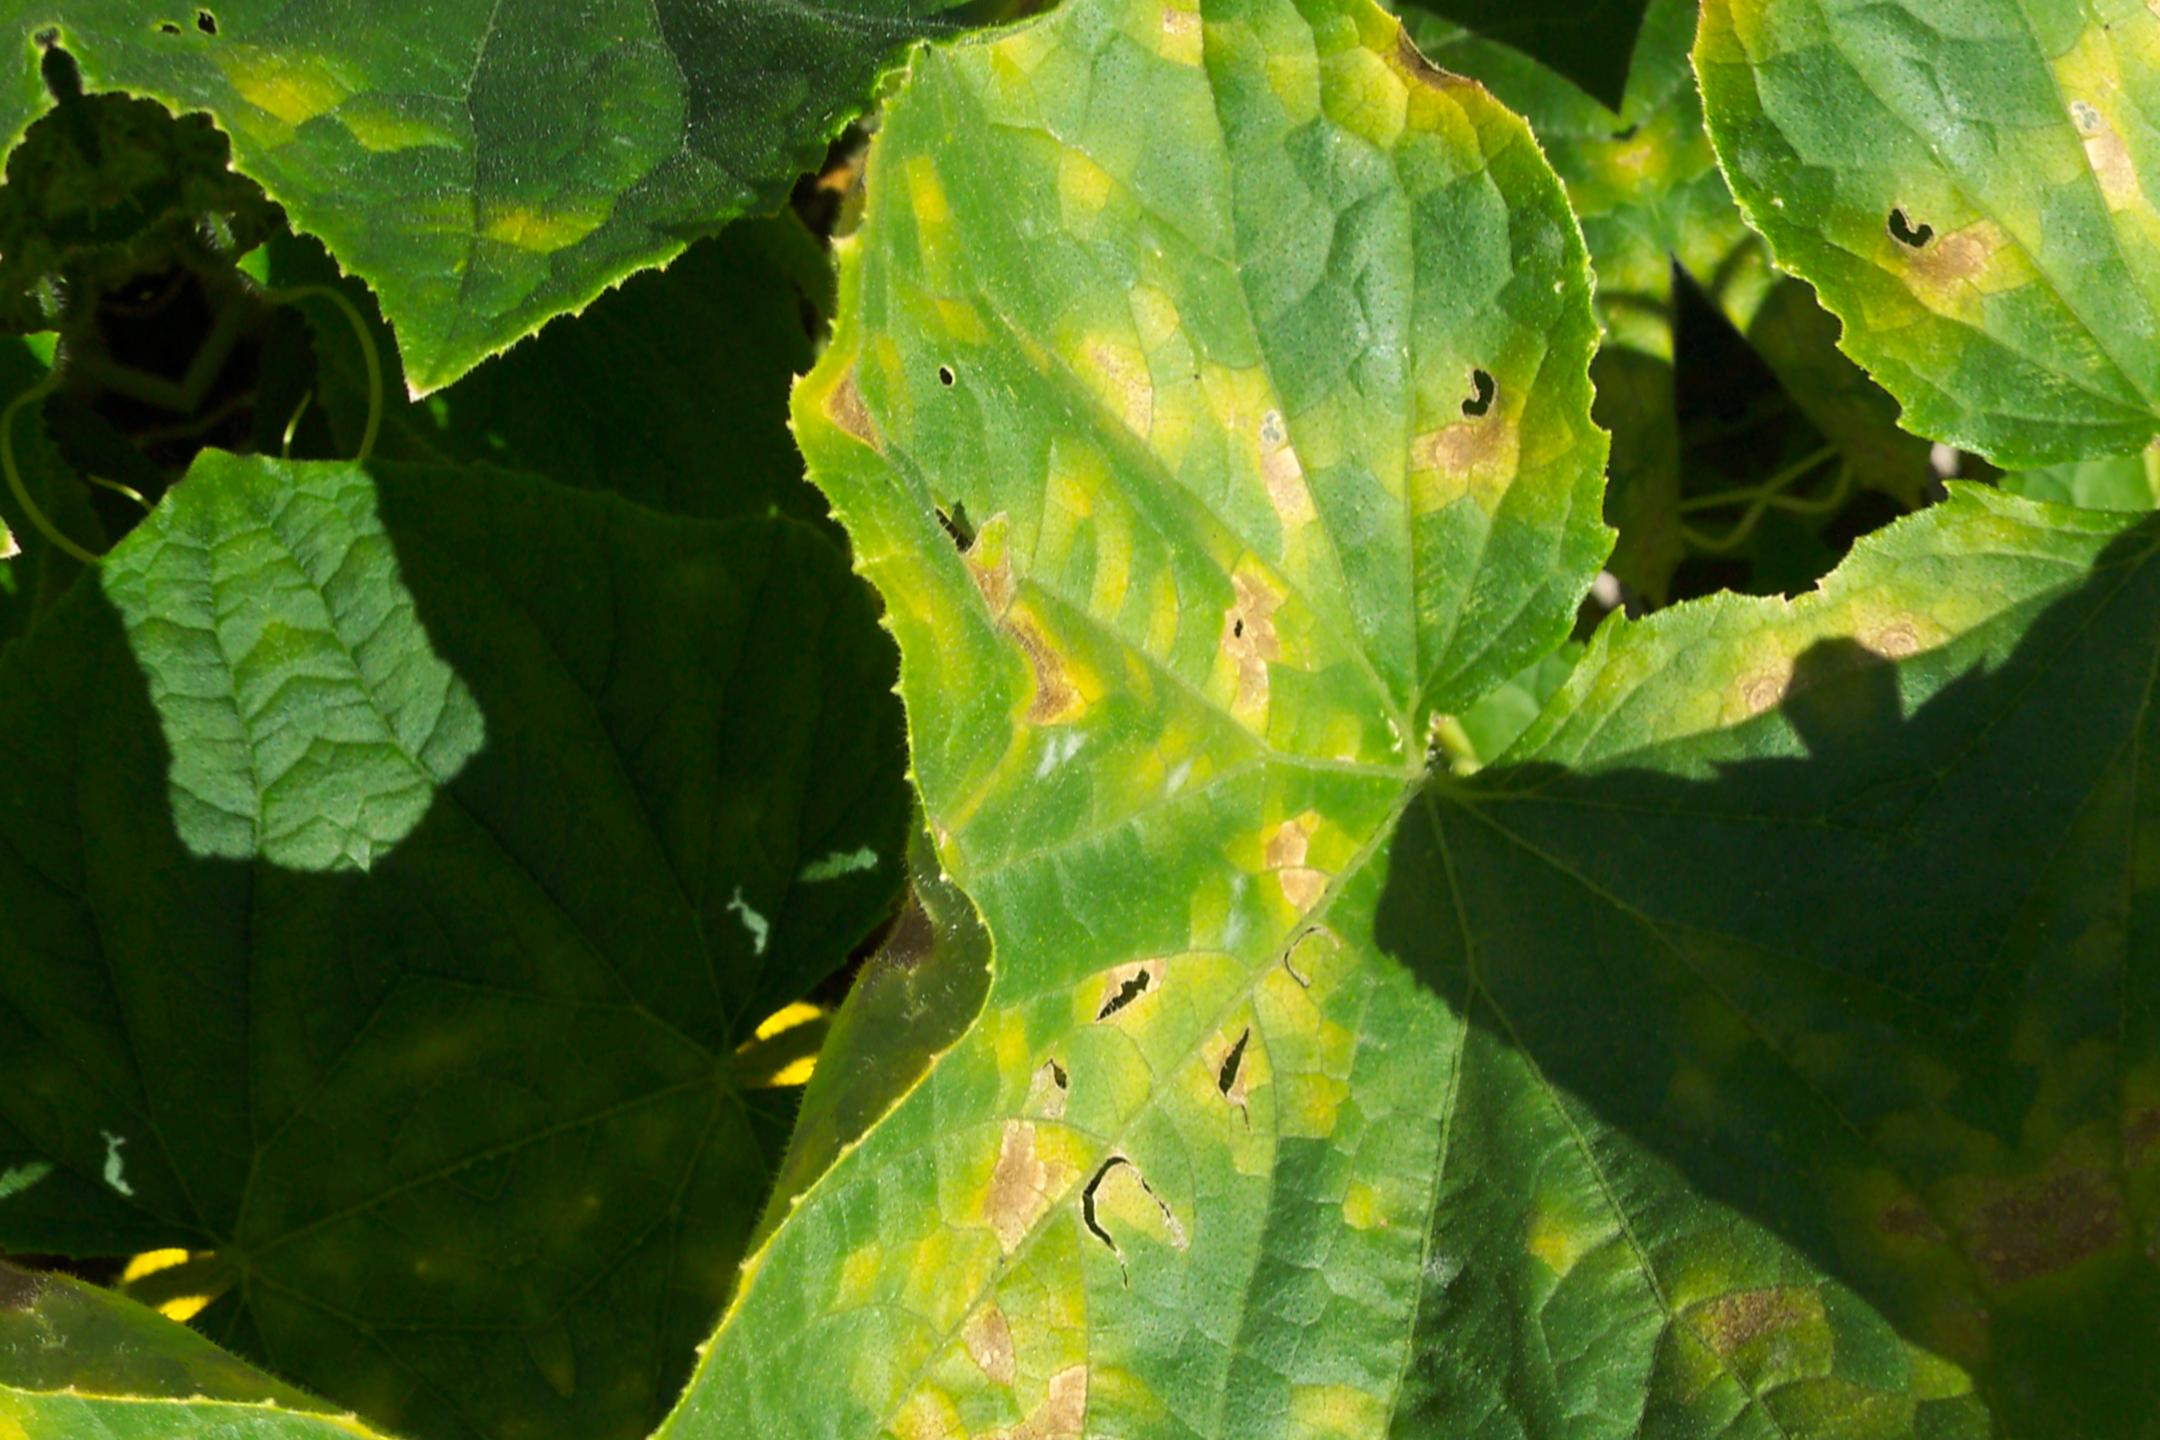Tomato mold leaf: (129, 0, 2083, 1440)
